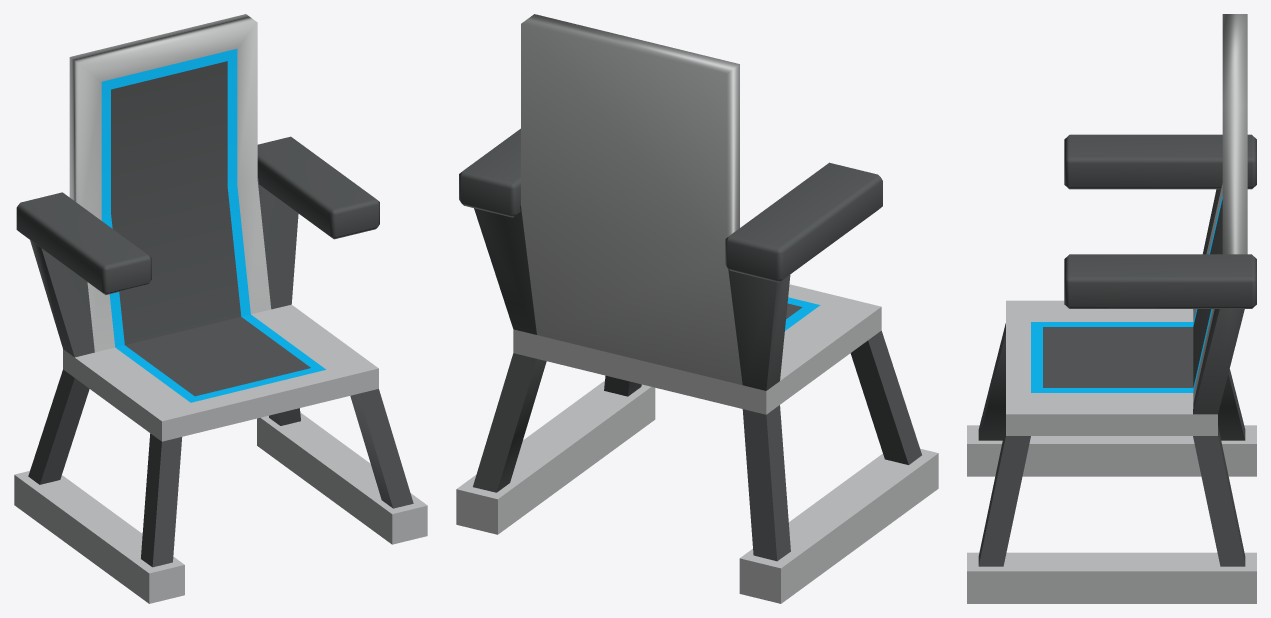
Rendered from Chair_013.glb.
3 renders of one model, left to right at view 1: azimuth 30°, elevation 25°; view 2: azimuth 150°, elevation 25°; view 3: azimuth 270°, elevation 25°, orthographic. The views are drawn at different scales.
Parts seen in each view (by area): view 1: Chair_013; view 2: Chair_013; view 3: Chair_013.
Part boxes in pixels (x1,y1,x2,y2): Chair_013: (14, 14, 427, 603); Chair_013: (456, 14, 938, 603); Chair_013: (967, 14, 1256, 603).
Size of the model in its own units: 0.7618 by 1.15 by 0.64.
Materials: 2 (2 with a texture image).
